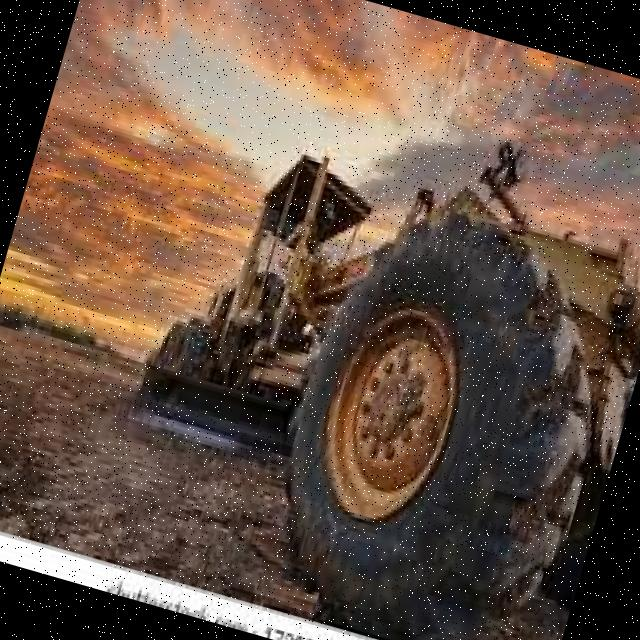Grader: (60, 49, 640, 640)
